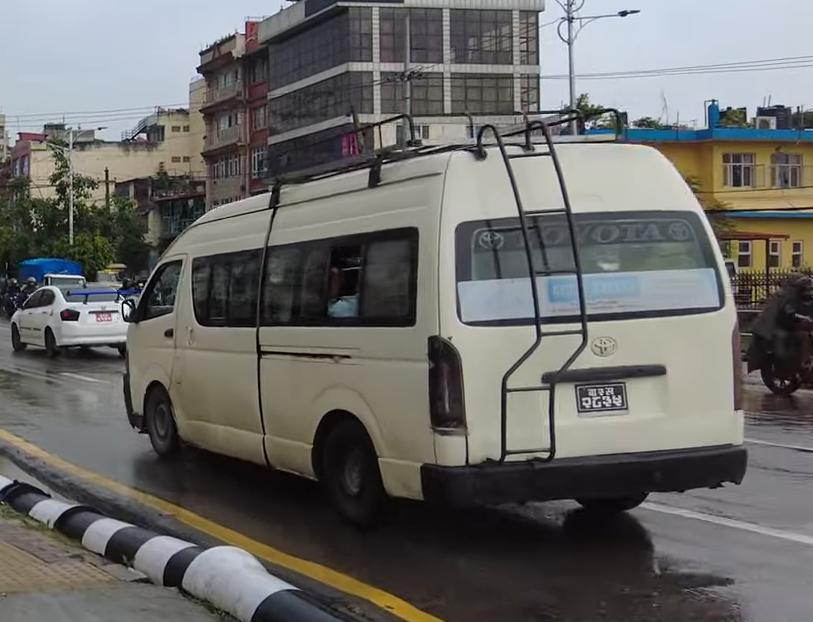car: (6, 283, 139, 361)
micro_bus: (107, 118, 756, 537)
